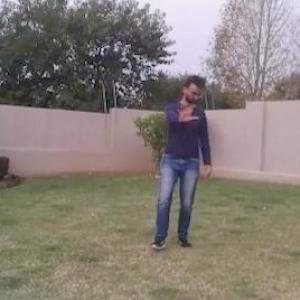follow_hand: (168, 92, 203, 124)
